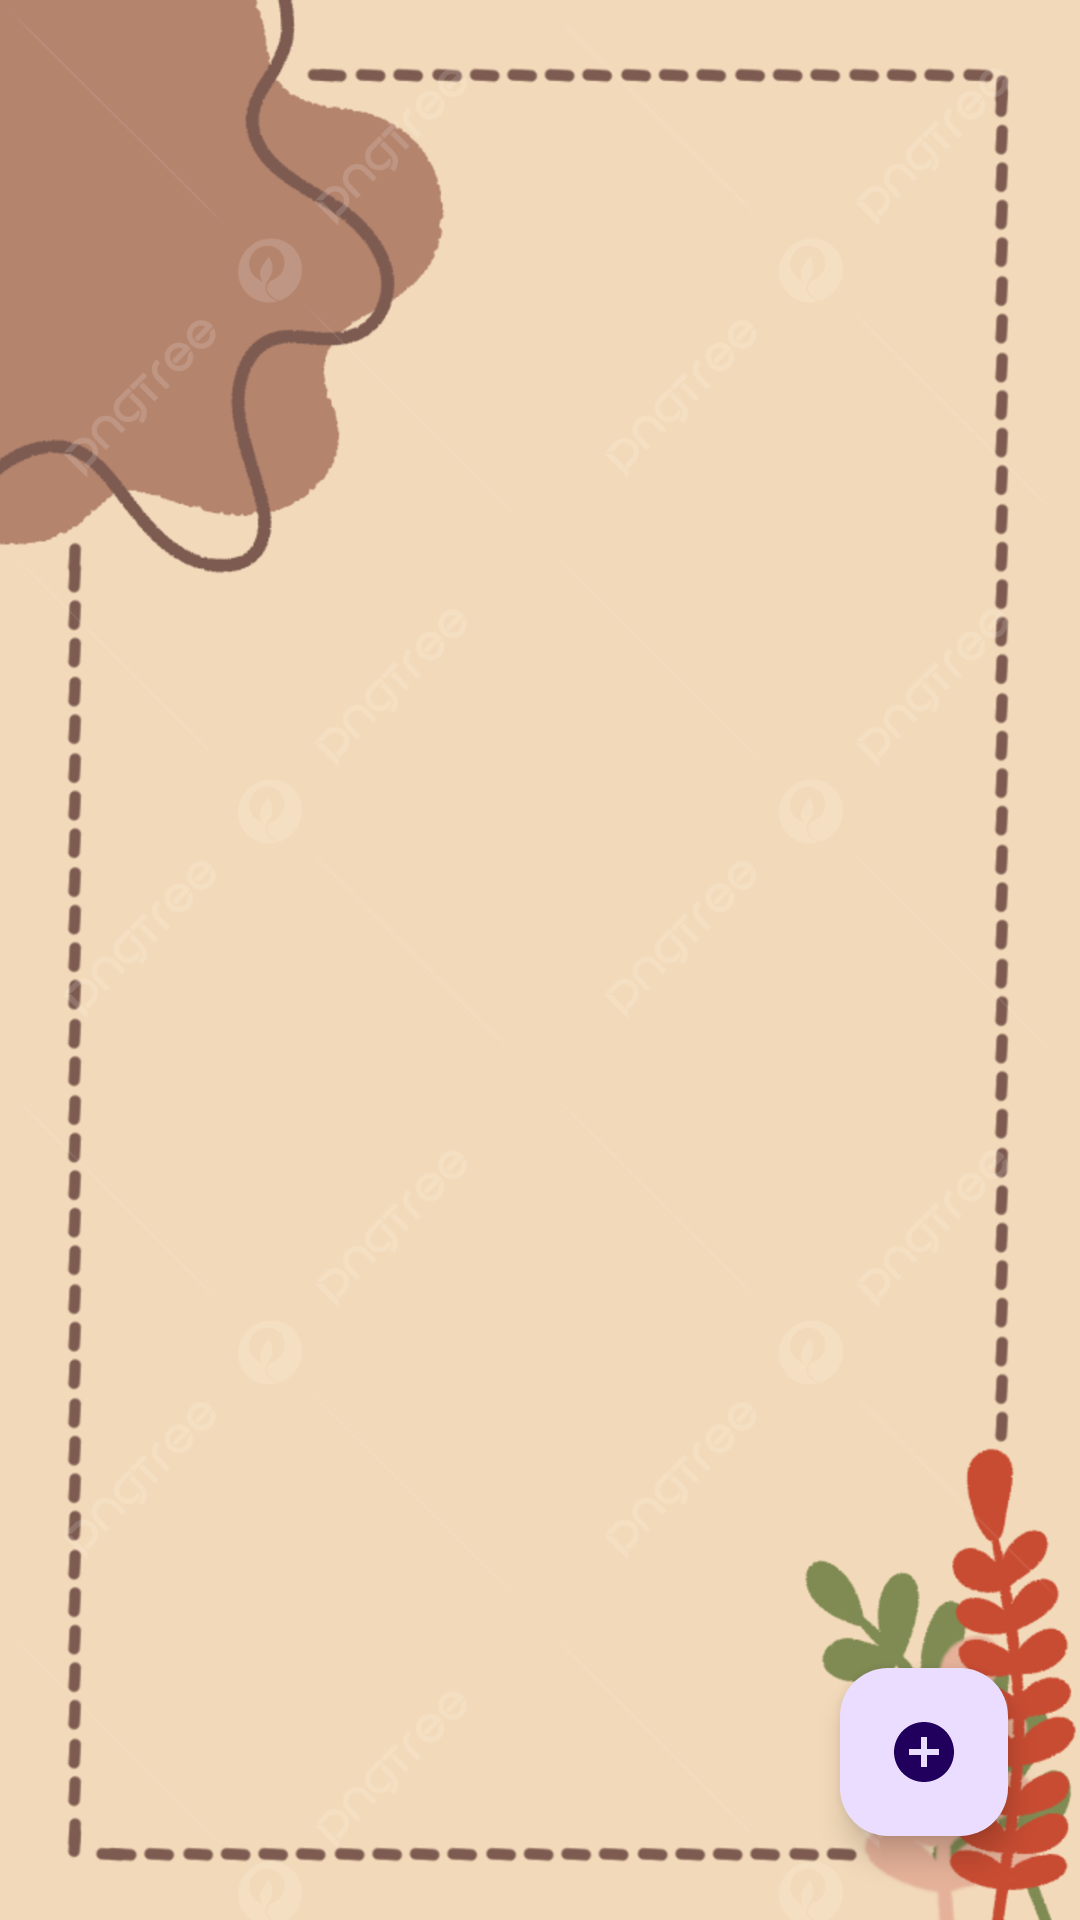

Icon click points for this 1080x1920 phone screenshot, format (x,y):
add circle: (924,1752)
